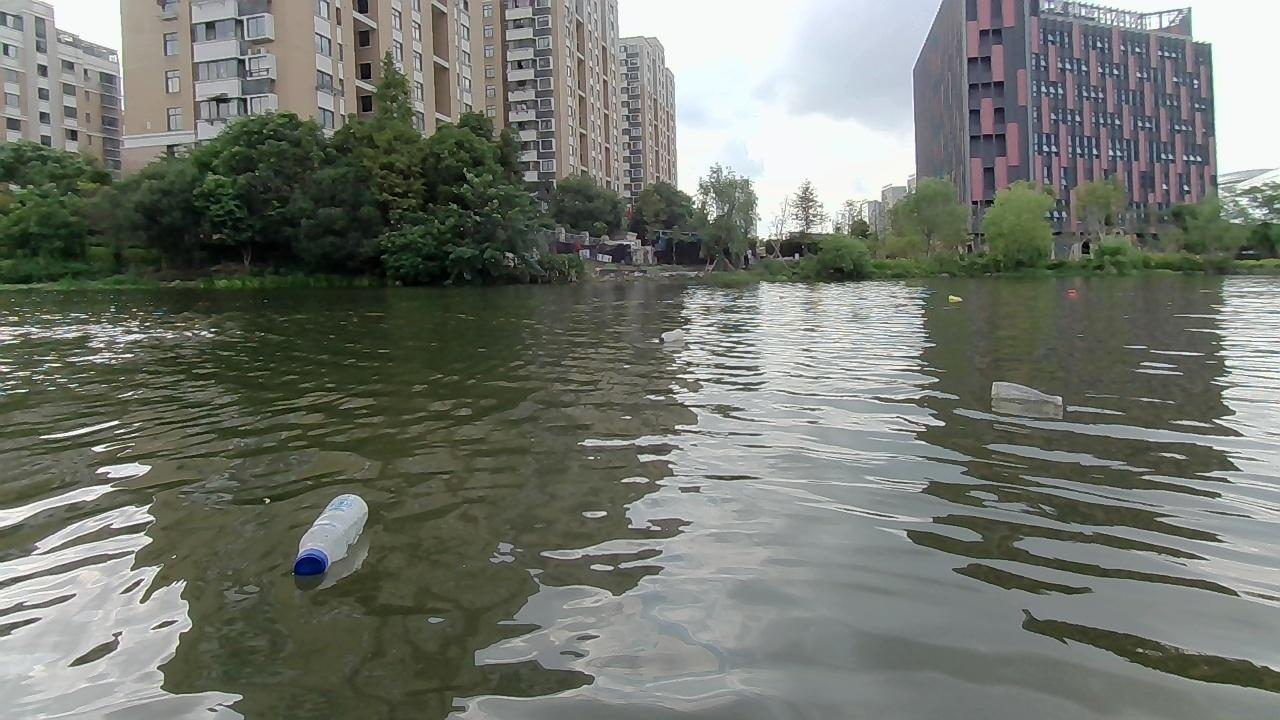bottle: (285, 493, 369, 581), (987, 378, 1060, 407), (944, 293, 964, 304), (1065, 285, 1078, 299)
